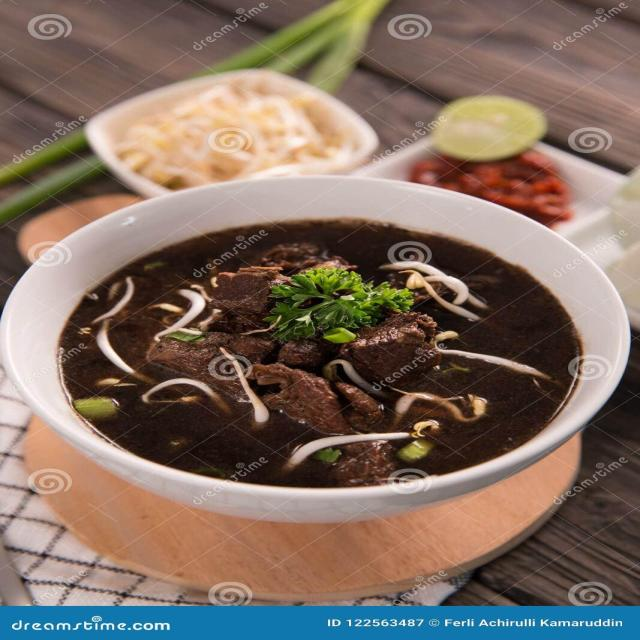Rawon: (37, 221, 571, 476)
